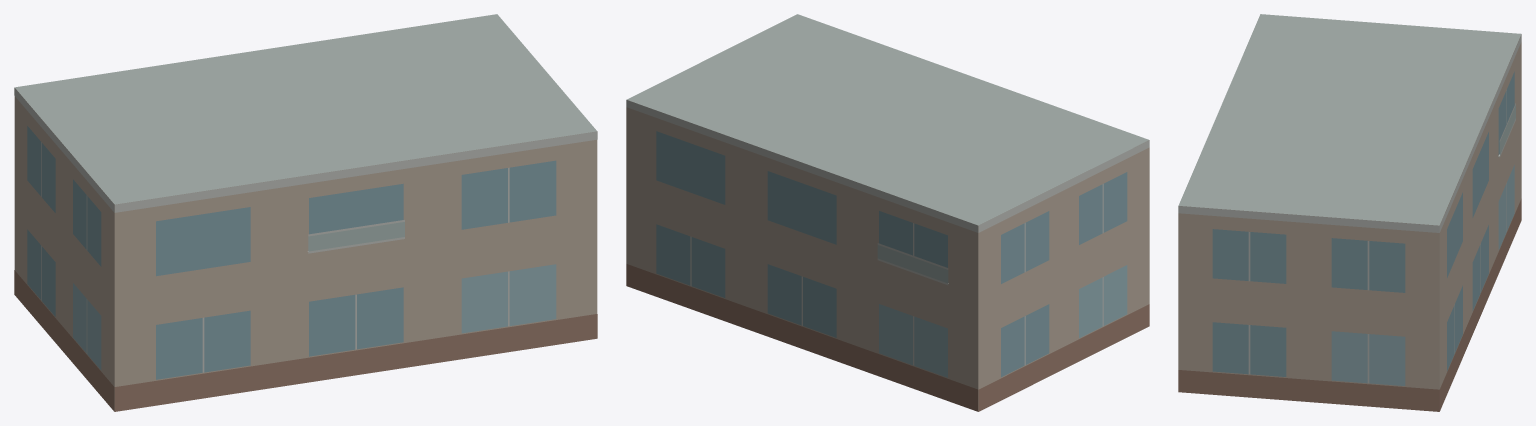
The model's file is survey-upis-32686927.glb.
3 renders of one model, left to right at view 1: azimuth 30°, elevation 25°; view 2: azimuth 150°, elevation 25°; view 3: azimuth 270°, elevation 25°, orthographic. The views are drawn at different scales.
Visible parts, largest first — view 1: survey-upis-32686927.tmp; view 2: survey-upis-32686927.tmp; view 3: survey-upis-32686927.tmp.
Part boxes in pixels (x1,y1,x2,y2): survey-upis-32686927.tmp: (14,14,597,411); survey-upis-32686927.tmp: (626,14,1149,411); survey-upis-32686927.tmp: (1178,14,1521,411).
Bounding box in the file's own units: 14.87 × 6.1 × 10.19.
